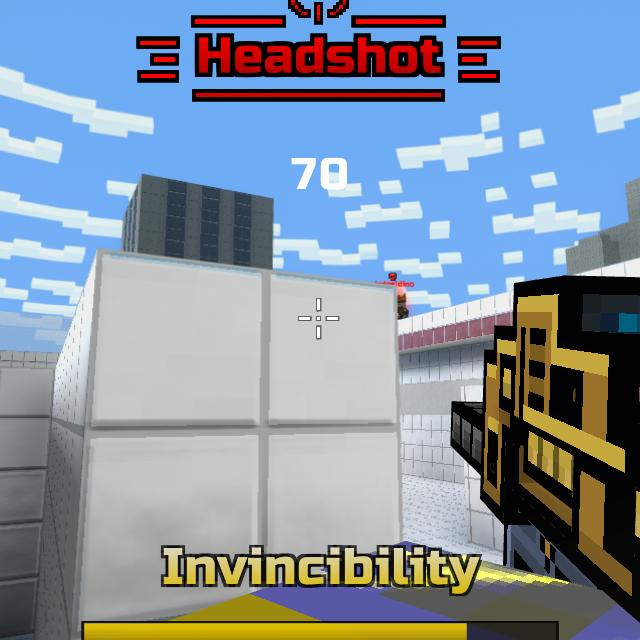Enemy: (397, 293, 409, 320)
